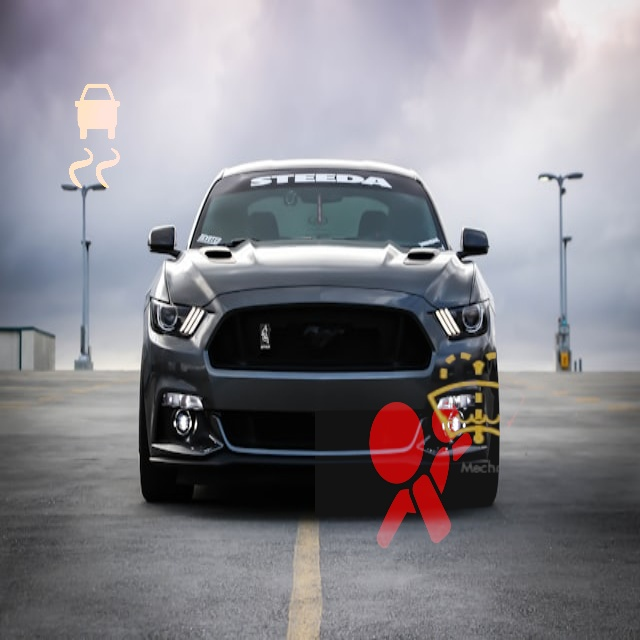symbol: (315, 371, 513, 569), (397, 318, 560, 481), (29, 69, 163, 203)
